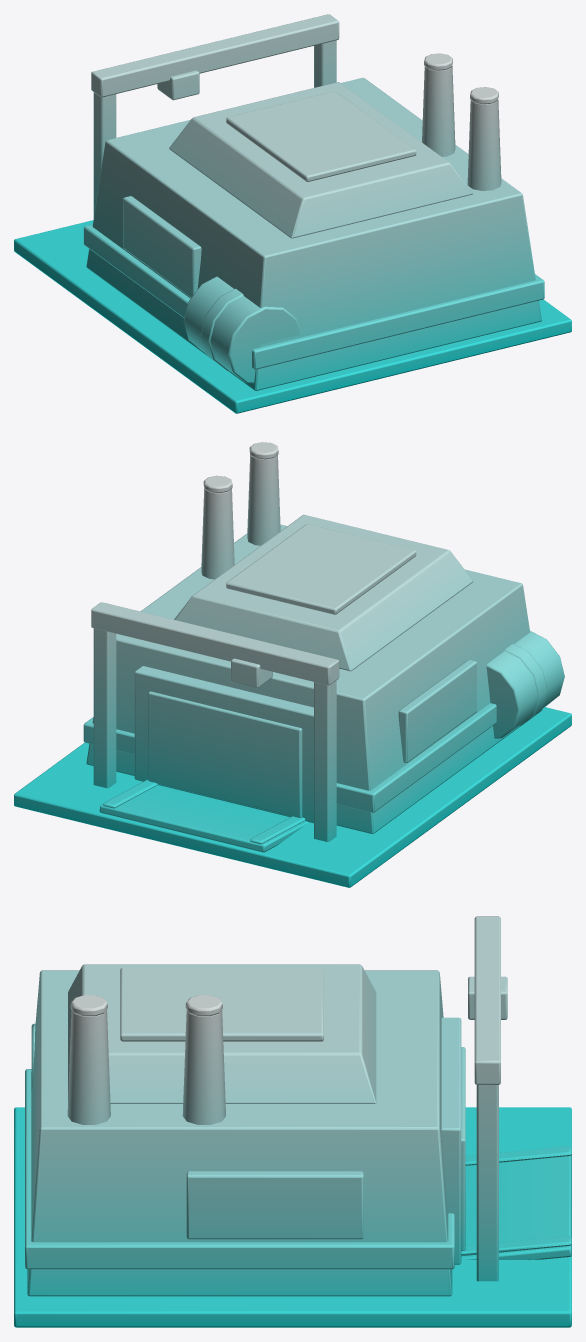
The model's file is concord_building_foundry.glb.
3 renders of one model, top to bottom at view 1: azimuth 30°, elevation 25°; view 2: azimuth 150°, elevation 25°; view 3: azimuth 270°, elevation 25°, orthographic. The views are drawn at different scales.
Visible parts, largest first — view 1: body; view 2: body; view 3: body.
Part boxes in pixels (x1,y1,x2,y2): body: (14, 14, 571, 413); body: (14, 442, 571, 887); body: (14, 916, 571, 1327).
Size of the model in its own units: 11.04 by 7.25 by 12.6.
